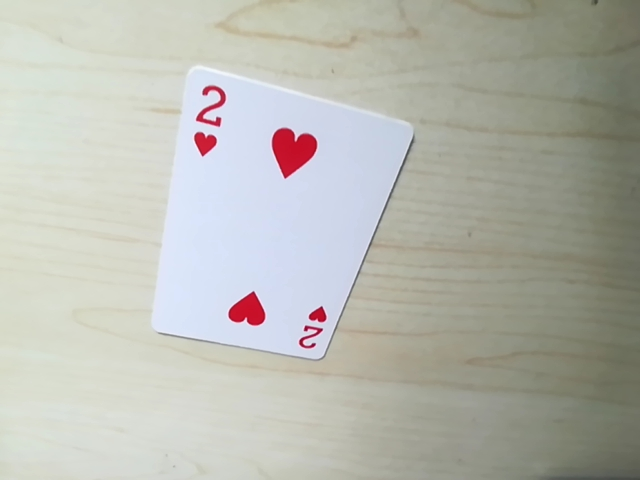hx 2: (186, 70, 231, 153), (293, 303, 334, 358)
